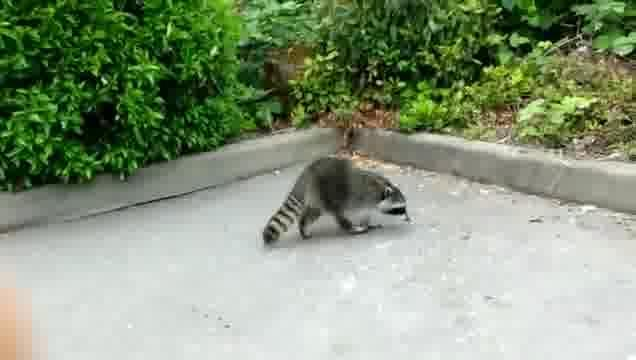raccoon: (265, 153, 414, 246)
